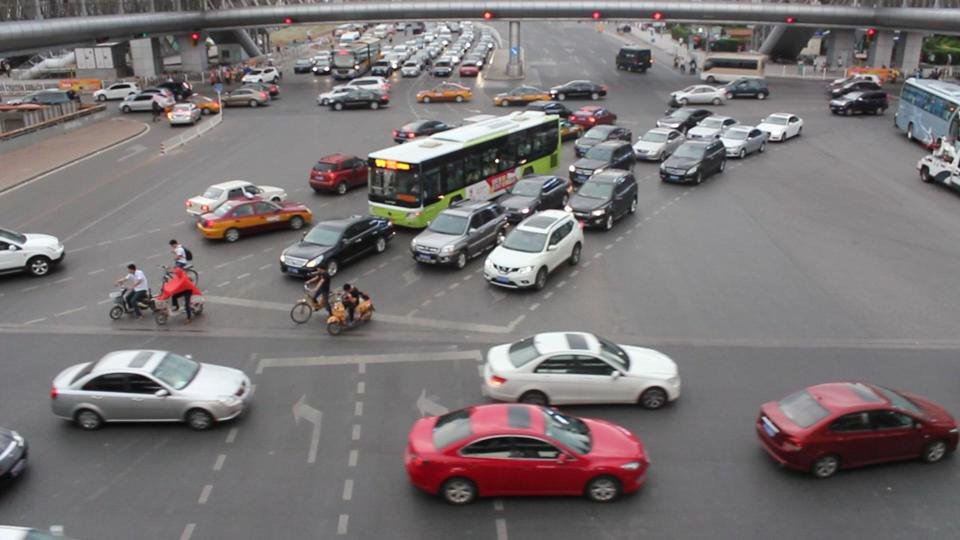Bus: (369, 115, 560, 228)
Car: (404, 403, 643, 501), (755, 376, 960, 472), (52, 346, 249, 426), (483, 328, 676, 408), (483, 208, 582, 290), (281, 214, 394, 273), (410, 201, 503, 264), (198, 195, 309, 238), (565, 169, 637, 229), (187, 179, 287, 221), (492, 174, 571, 220), (657, 137, 726, 186), (568, 139, 633, 183), (1, 228, 62, 274), (308, 155, 376, 192), (409, 153, 480, 188), (387, 137, 456, 172), (468, 133, 534, 166), (574, 124, 631, 160), (393, 118, 454, 149), (656, 107, 713, 139), (631, 126, 683, 161), (517, 99, 571, 129), (714, 125, 763, 158), (525, 115, 579, 143), (688, 115, 739, 144), (754, 113, 799, 141), (567, 105, 614, 130)
Minivan: (452, 113, 512, 149)
